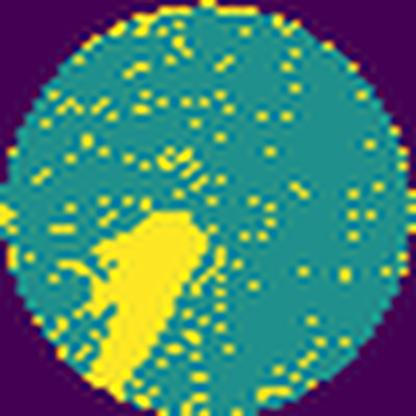Loc: (57, 212, 208, 404)
